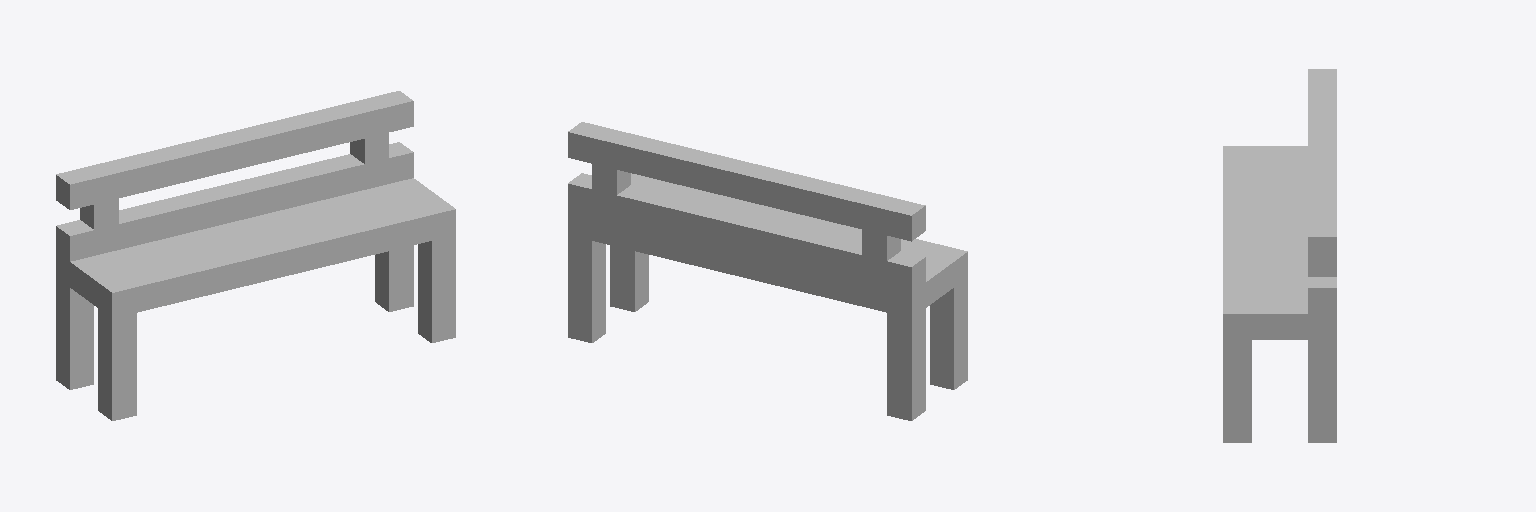
Rendered from banco2.obj.
The picture shows the model from 3 angles: view 1: azimuth 30°, elevation 25°; view 2: azimuth 150°, elevation 25°; view 3: azimuth 270°, elevation 25°; orthographic projection.
Parts seen in each view (by area): view 1: banco2; view 2: banco2; view 3: banco2.
Boxes of the visible parts, x1,y1,x2,y2 form: banco2: [56, 91, 455, 420]; banco2: [568, 122, 967, 420]; banco2: [1223, 69, 1336, 442].
Bounding box in the file's own units: 14 × 8 × 4.